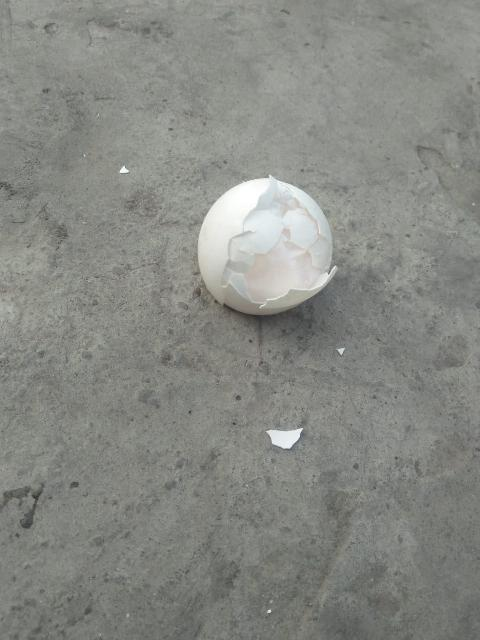Roto: (196, 174, 338, 316)
